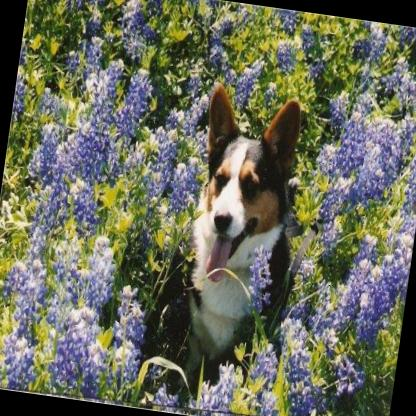Cardigan: (175, 81, 314, 363)
